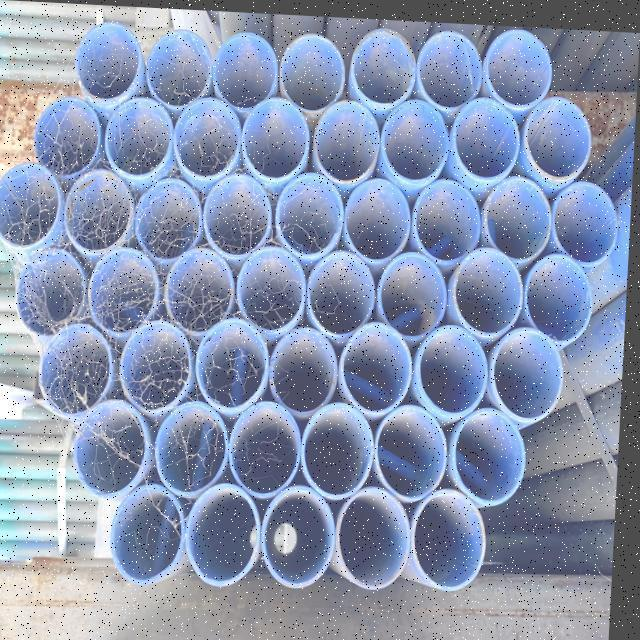pipe: (406, 480, 492, 589), (332, 481, 415, 592), (109, 486, 191, 587), (69, 399, 151, 498), (377, 397, 453, 502), (188, 483, 264, 587), (454, 401, 529, 506), (491, 322, 568, 423), (267, 480, 340, 585), (118, 316, 195, 415), (521, 244, 598, 343), (451, 237, 527, 337), (304, 401, 378, 503), (340, 315, 417, 413), (196, 316, 271, 415), (418, 320, 496, 415), (155, 401, 230, 497), (41, 326, 116, 422), (235, 401, 306, 502), (13, 249, 89, 340), (481, 165, 554, 259), (89, 245, 162, 338), (379, 246, 451, 338), (306, 246, 378, 337), (380, 89, 451, 181), (168, 248, 238, 339), (271, 325, 341, 415), (65, 168, 138, 254), (237, 246, 308, 334), (413, 171, 484, 259), (204, 169, 273, 259), (277, 170, 348, 257), (343, 176, 413, 264), (312, 95, 382, 183), (241, 93, 310, 182), (136, 175, 206, 261), (454, 93, 525, 177), (172, 94, 242, 179), (553, 176, 623, 261), (36, 96, 105, 181), (145, 27, 217, 108), (105, 96, 175, 179), (523, 93, 592, 175), (0, 160, 60, 253), (349, 22, 417, 104), (417, 29, 484, 111), (74, 22, 141, 103), (277, 31, 344, 111), (485, 26, 554, 103), (211, 30, 277, 110)
